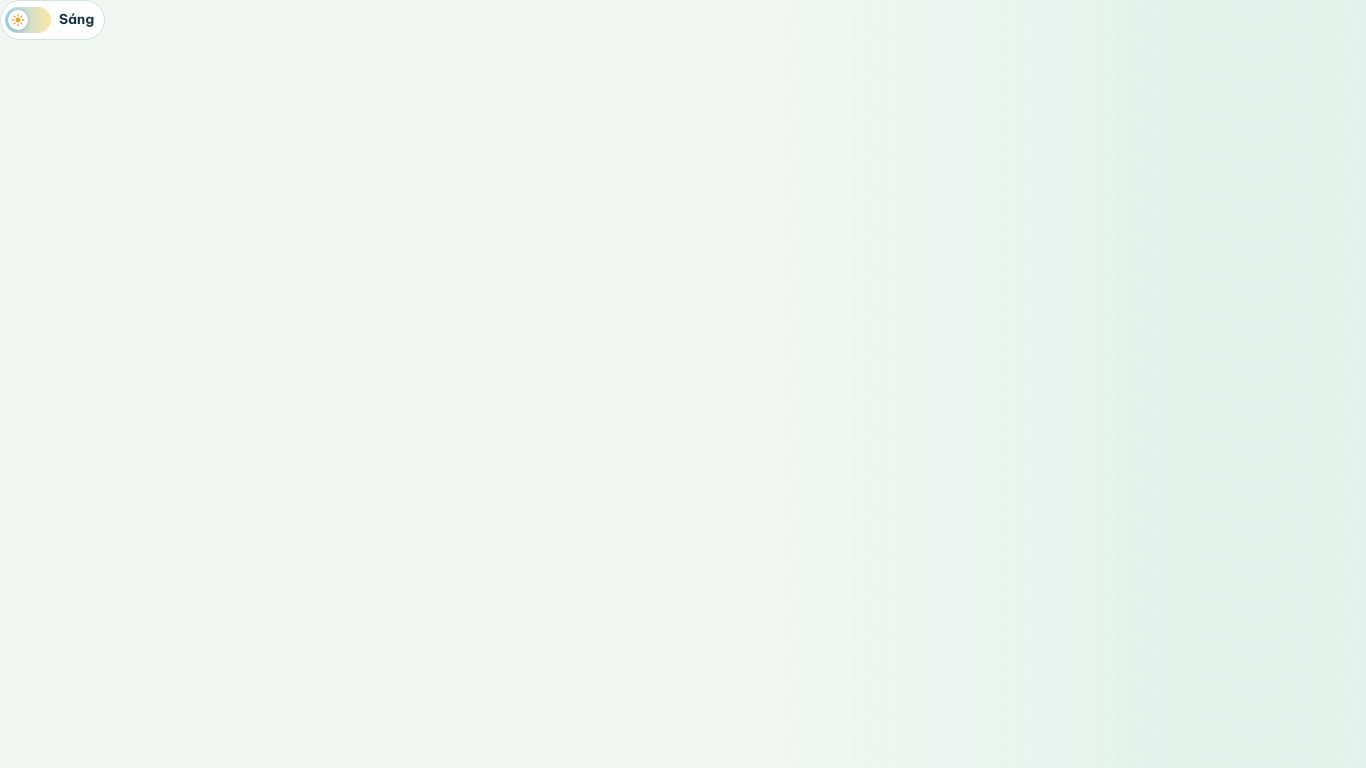
Test case: theme toggle › switches dark mode and remembers it
Click the switch named "Chế độ tối" at (53, 20), box [0,0,105,40]
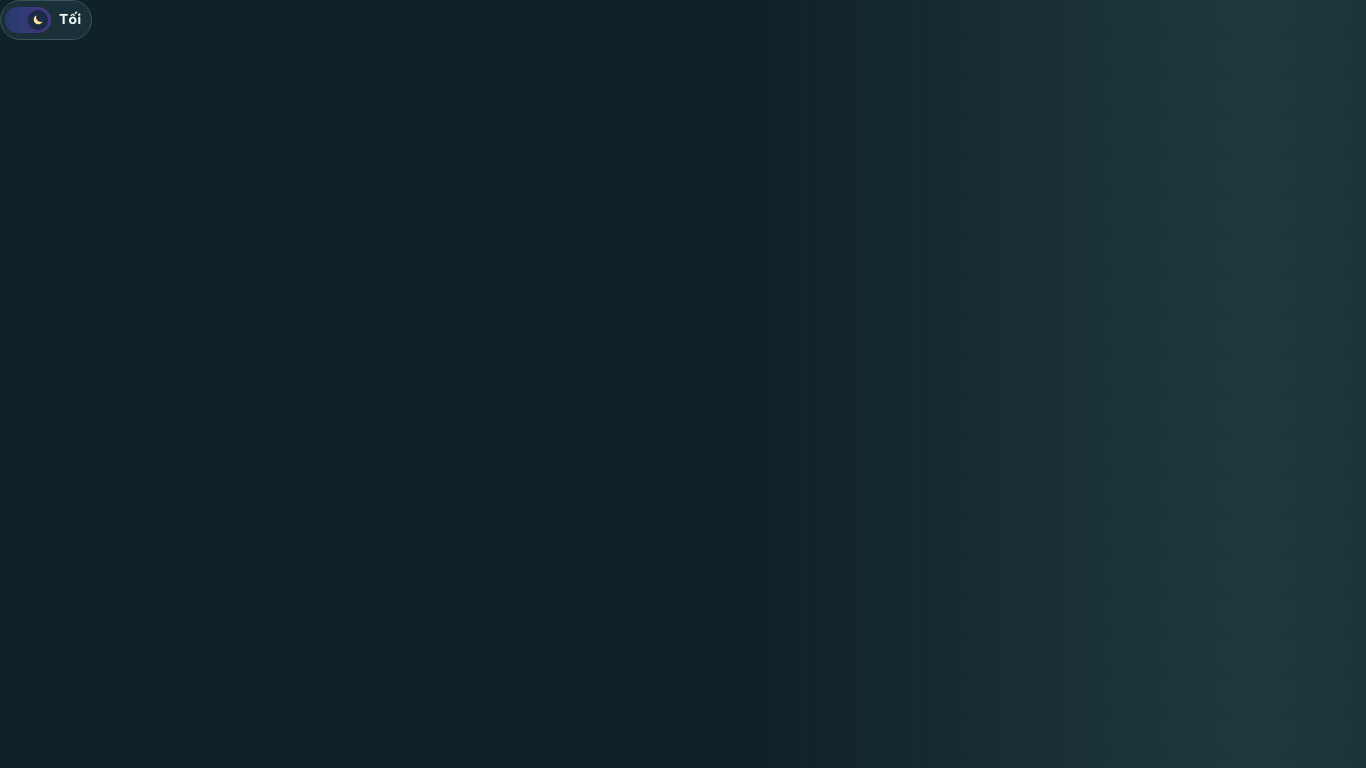
Expected: the switch named "Chế độ tối" is checked, [0,0,92,40]
